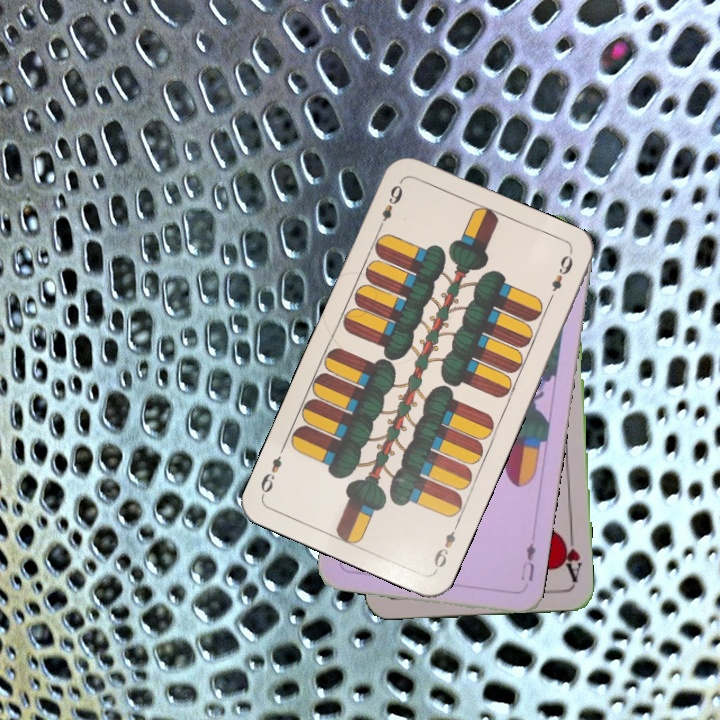E9: (429, 518, 462, 574), (374, 177, 405, 233)
EU: (517, 539, 539, 583)
HA: (557, 529, 585, 588)
